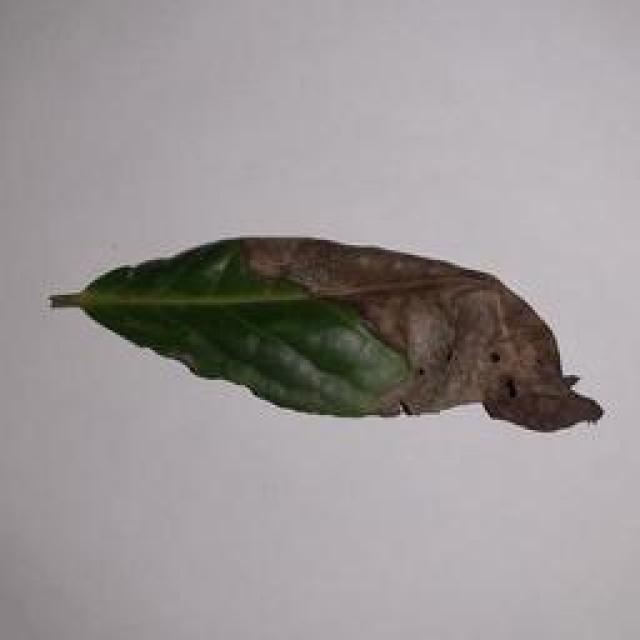Brown Blight: (27, 228, 610, 447)
